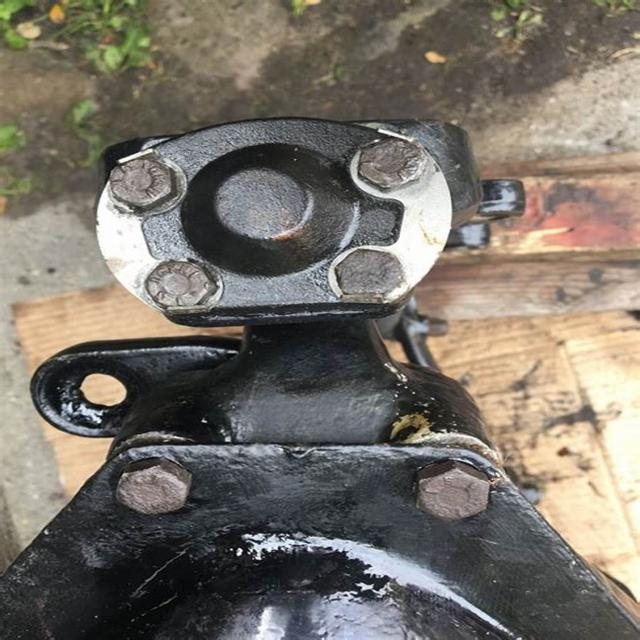bolt head: (409, 458, 491, 523), (113, 456, 195, 518), (332, 247, 407, 303), (104, 156, 177, 211), (358, 137, 427, 192), (143, 260, 216, 310)
